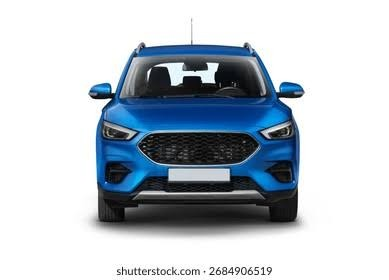car: (89, 38, 305, 227)
